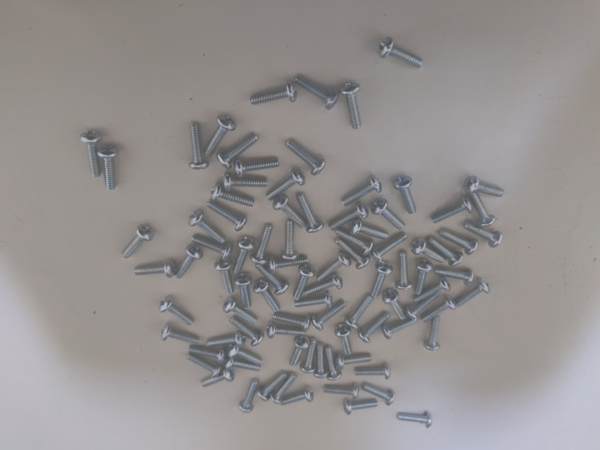shortscrew: (295, 75, 339, 111), (286, 138, 326, 176), (379, 37, 425, 69), (217, 134, 259, 169), (203, 115, 236, 158), (334, 235, 371, 272), (341, 174, 383, 206), (189, 209, 225, 245), (266, 170, 307, 201), (207, 201, 248, 232), (272, 195, 308, 229), (249, 82, 297, 107), (371, 232, 409, 263), (310, 300, 348, 331), (229, 315, 264, 348), (191, 234, 233, 261), (432, 196, 474, 223), (297, 192, 324, 234), (316, 251, 353, 281), (80, 130, 103, 178), (256, 264, 290, 296), (122, 225, 153, 260), (159, 295, 194, 326), (454, 278, 490, 308), (372, 200, 406, 231), (440, 229, 479, 256), (335, 230, 374, 257), (428, 237, 463, 267), (346, 293, 375, 329), (223, 296, 259, 325), (97, 144, 119, 191), (257, 370, 289, 402), (465, 223, 504, 249), (412, 276, 451, 302), (211, 184, 255, 207), (175, 244, 203, 280), (253, 278, 281, 314), (357, 314, 391, 343), (406, 293, 441, 321), (340, 83, 361, 129), (234, 158, 280, 179), (190, 121, 209, 171), (251, 223, 273, 265), (233, 236, 256, 276), (393, 176, 417, 214), (270, 373, 298, 405), (267, 254, 309, 275), (349, 218, 389, 240), (187, 353, 222, 378), (371, 261, 394, 299), (360, 382, 396, 406), (382, 316, 418, 340), (303, 274, 344, 295), (423, 295, 456, 321), (472, 193, 497, 227), (161, 325, 201, 346), (412, 239, 447, 263), (464, 176, 505, 196), (295, 264, 317, 301), (435, 267, 475, 287), (280, 219, 299, 261), (224, 174, 267, 192), (383, 289, 407, 321), (228, 344, 264, 365), (133, 261, 177, 278), (215, 258, 235, 295), (395, 250, 413, 291), (239, 378, 260, 413), (335, 352, 373, 371), (206, 331, 246, 349), (274, 314, 311, 333), (267, 322, 306, 340), (200, 368, 235, 388), (290, 335, 311, 367), (279, 387, 314, 406), (415, 260, 434, 295), (324, 346, 343, 381), (295, 293, 334, 310), (300, 338, 318, 374), (235, 273, 253, 309), (424, 316, 442, 351), (324, 383, 359, 400), (355, 364, 392, 380), (225, 356, 262, 372), (313, 343, 329, 380), (398, 411, 432, 428), (335, 324, 353, 356), (343, 399, 379, 415)
